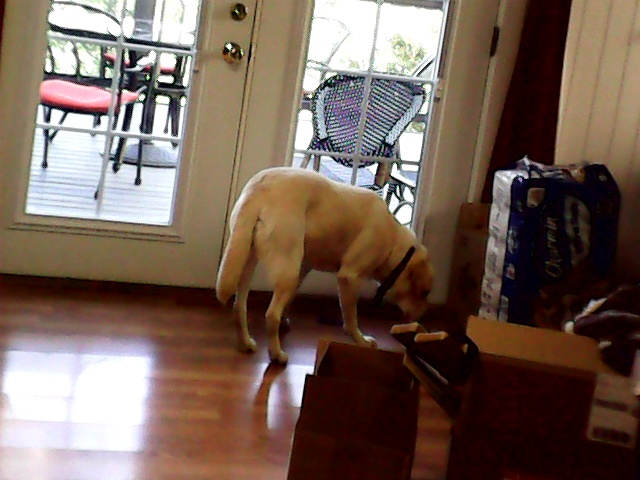dog: (212, 163, 444, 320)
